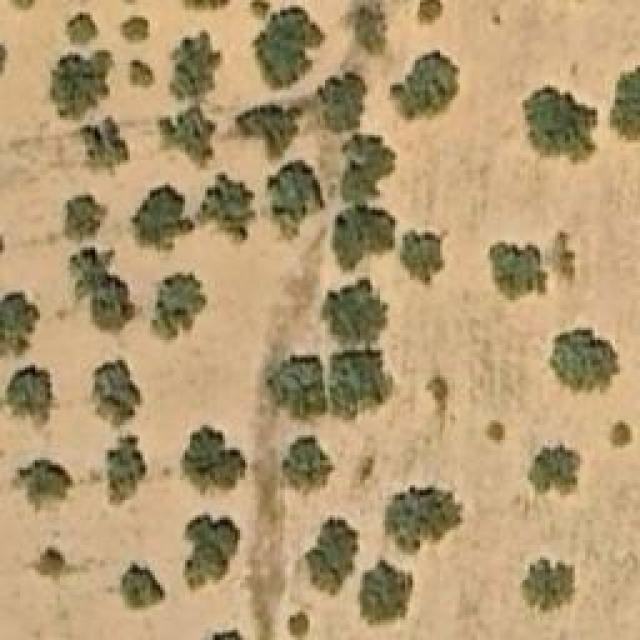Tree: (255, 5, 323, 93), (523, 88, 598, 163), (383, 485, 463, 555), (180, 425, 248, 500), (70, 248, 133, 328), (183, 513, 243, 596), (390, 50, 458, 120), (550, 327, 620, 395), (328, 345, 393, 418), (267, 160, 325, 240), (50, 50, 115, 120), (320, 278, 390, 341), (338, 133, 398, 203), (265, 355, 328, 420), (333, 208, 398, 271), (195, 175, 255, 243), (357, 558, 415, 628), (153, 273, 208, 343), (488, 240, 551, 300), (133, 183, 193, 243), (235, 97, 295, 155), (308, 520, 358, 585), (0, 289, 42, 362), (523, 558, 578, 613), (528, 445, 583, 500), (95, 358, 143, 418), (105, 562, 165, 610), (315, 73, 363, 133), (283, 438, 333, 491), (3, 363, 53, 416), (80, 115, 128, 168), (403, 228, 448, 283), (610, 65, 640, 143), (107, 437, 145, 495), (65, 193, 108, 243), (165, 112, 208, 160), (175, 38, 210, 93), (20, 460, 70, 498), (355, 5, 388, 55), (30, 542, 63, 580), (68, 13, 98, 46), (118, 15, 151, 43), (127, 60, 155, 90), (415, 0, 443, 25), (355, 450, 375, 485), (613, 420, 633, 448), (290, 612, 310, 640), (485, 420, 505, 445)
